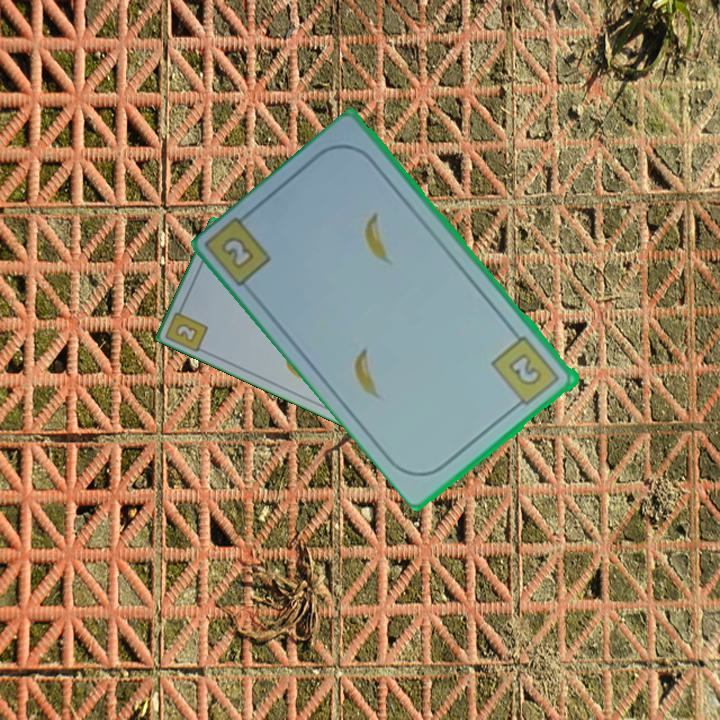2b: (488, 332, 563, 412), (218, 232, 258, 273), (172, 320, 201, 345)
